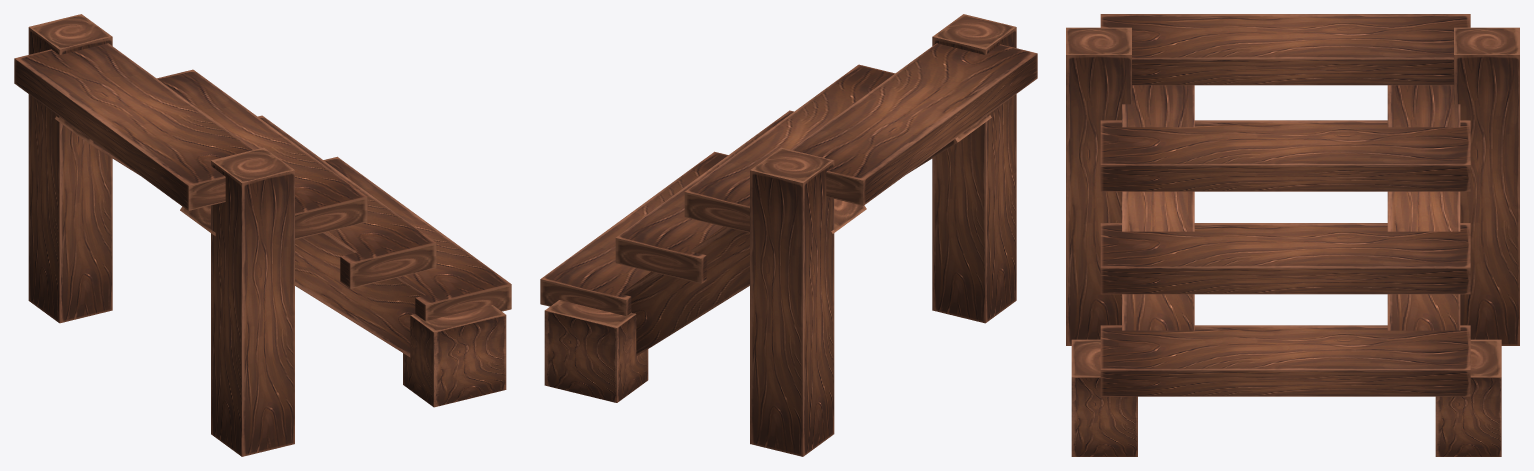
Rendered from stairs.fbx.
3 renders of one model, left to right at view 1: azimuth 30°, elevation 25°; view 2: azimuth 150°, elevation 25°; view 3: azimuth 270°, elevation 25°, orthographic. The views are drawn at different scales.
Visible parts, largest first — view 1: polySurface101; view 2: polySurface101; view 3: polySurface101.
Boxes of the visible parts, x1,y1,x2,y2 form: polySurface101: (14,14,511,456); polySurface101: (540,14,1037,456); polySurface101: (1066,14,1519,456).
Size of the model in its own units: 2.02 by 1.64 by 2.32.
